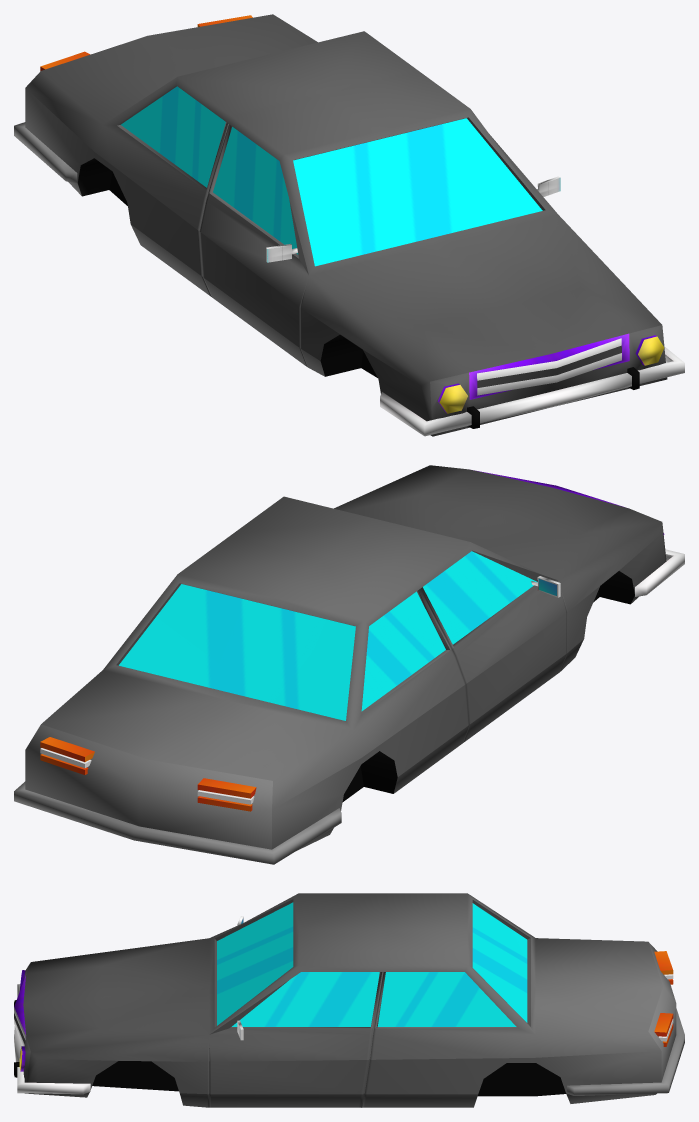
The model's file is Car_2.fbx.
3 renders of one model, top to bottom at view 1: azimuth 30°, elevation 25°; view 2: azimuth 150°, elevation 25°; view 3: azimuth 270°, elevation 25°, orthographic. The views are drawn at different scales.
Parts seen in each view (by area): view 1: Car_2; view 2: Car_2; view 3: Car_2.
Part boxes in pixels (x1,y1,x2,y2): Car_2: (14, 14, 684, 436); Car_2: (14, 465, 684, 864); Car_2: (14, 893, 684, 1107).
Bounding box in the file's own units: 242 × 129 × 603.
2 materials, 2 textured.
